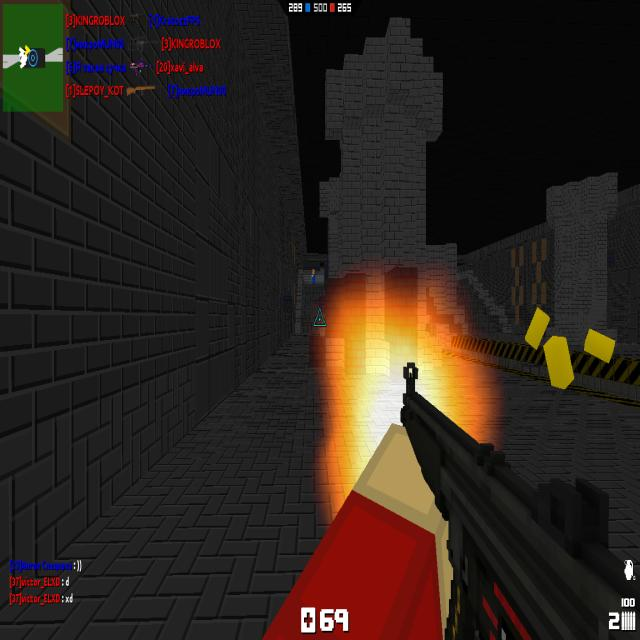enemy: (311, 268, 316, 286)
